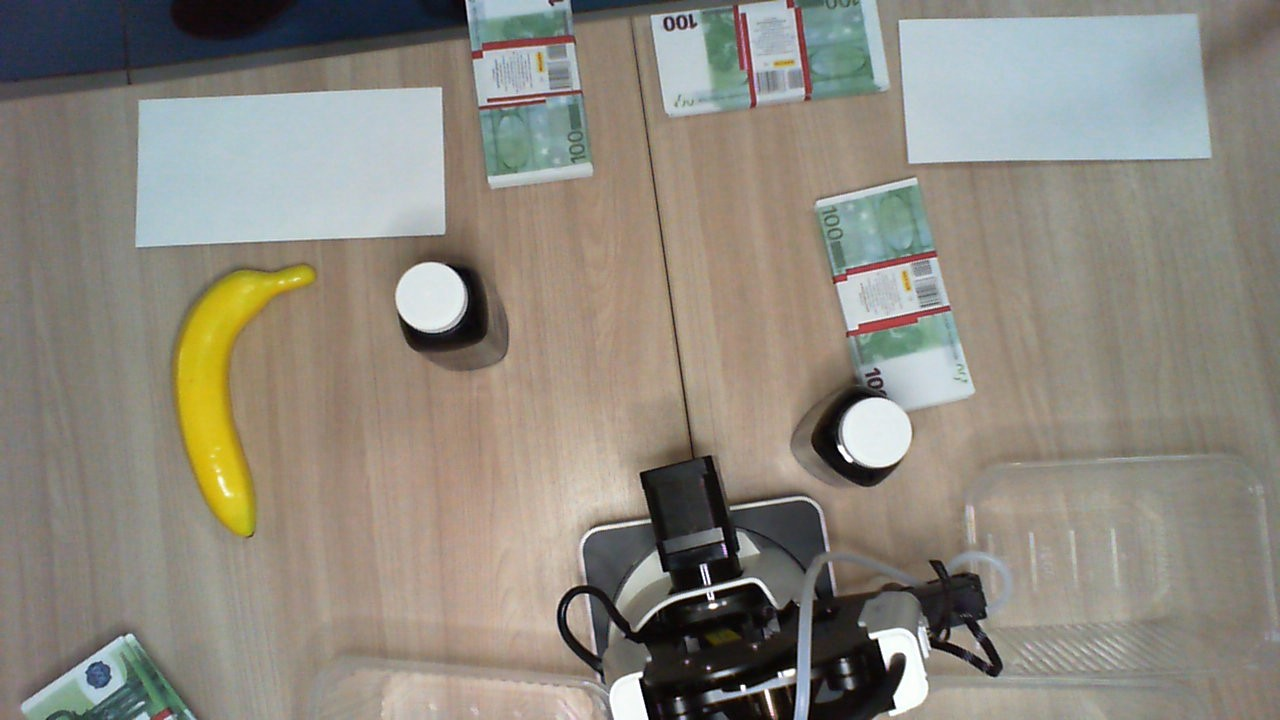banana: (166, 262, 321, 543)
bottle: (815, 387, 918, 484), (394, 261, 489, 358)
convert: (132, 85, 449, 248), (894, 12, 1215, 165)
money: (818, 178, 979, 416), (653, 1, 891, 115), (460, 2, 596, 191), (22, 630, 216, 720)
